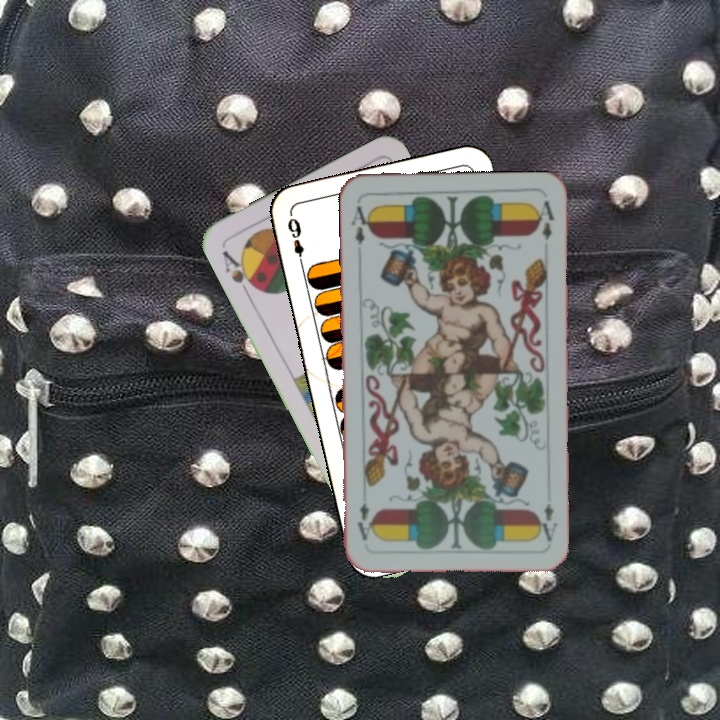E9: (283, 214, 307, 270)
EA: (347, 202, 373, 248), (534, 500, 560, 544)
SA: (218, 246, 261, 299)
